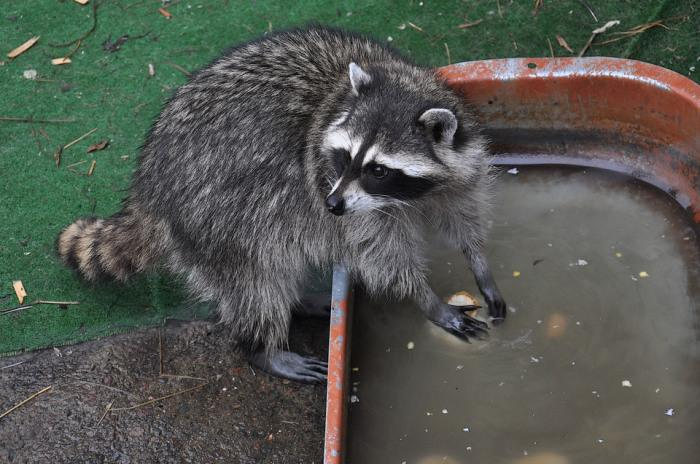raccoon: (48, 19, 534, 380)
